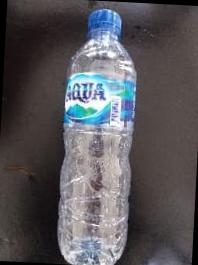Plastik: (59, 8, 136, 265)
